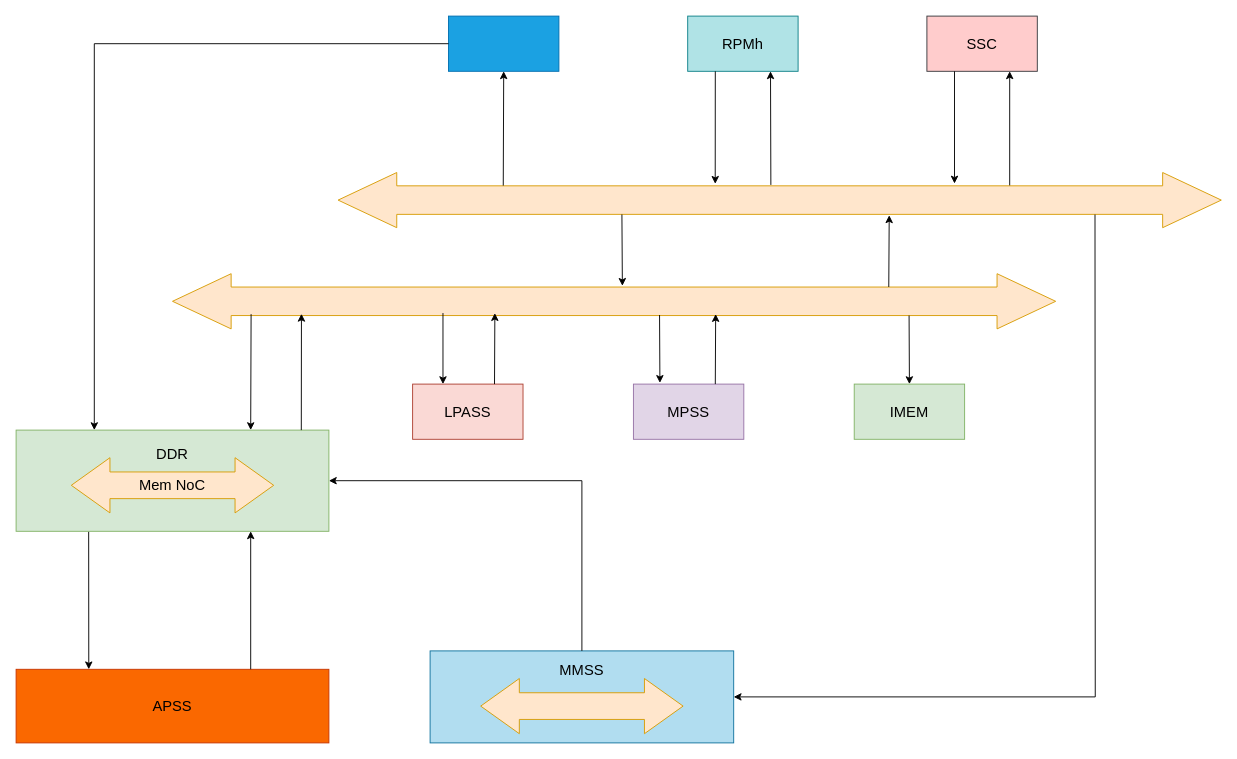
This 1237x759 diagram has some shape labels left out. The shapes that lost their labels are listed below. From the top down, each one's centre as x and y in pixels, then its label:
pixel 503 43: CSS
pixel 779 200: Config NoC
pixel 614 301: System NoC
pixel 581 706: MMSS NoC
